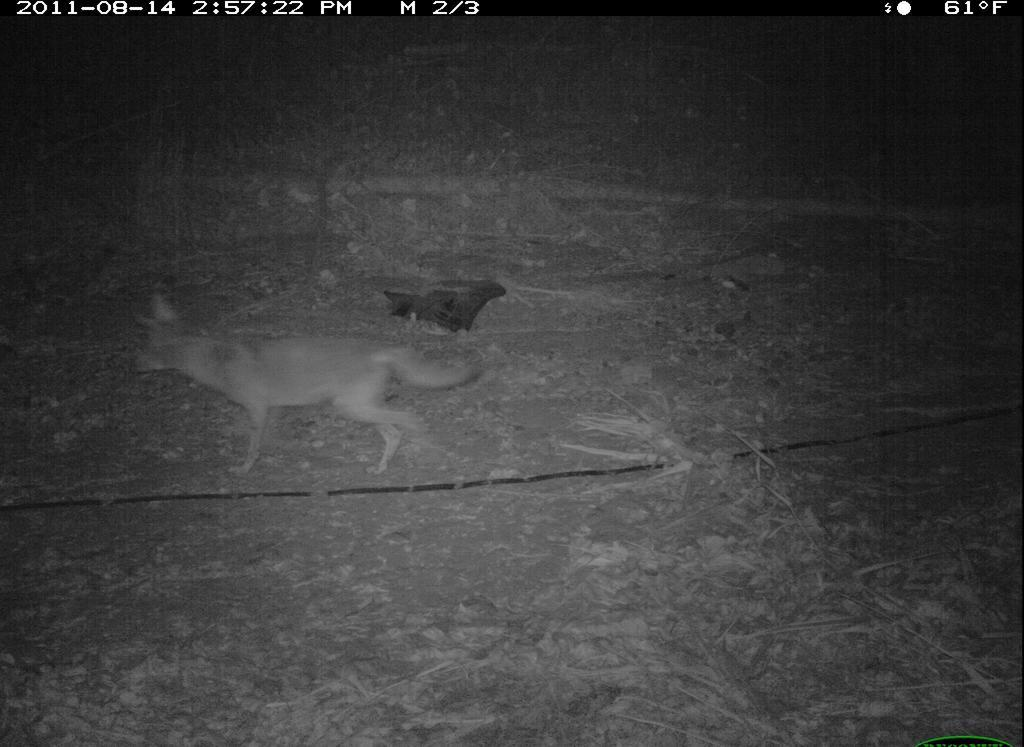coyote: (121, 280, 505, 488)
